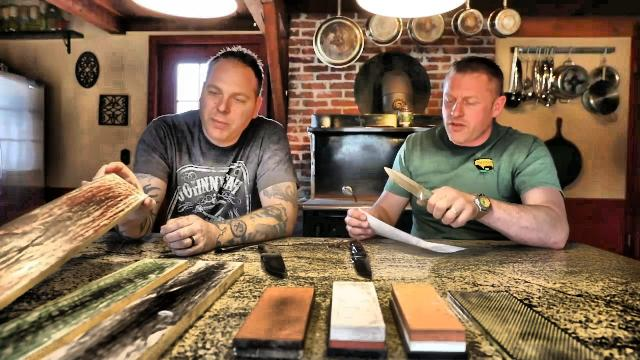knife: (379, 161, 459, 225)
